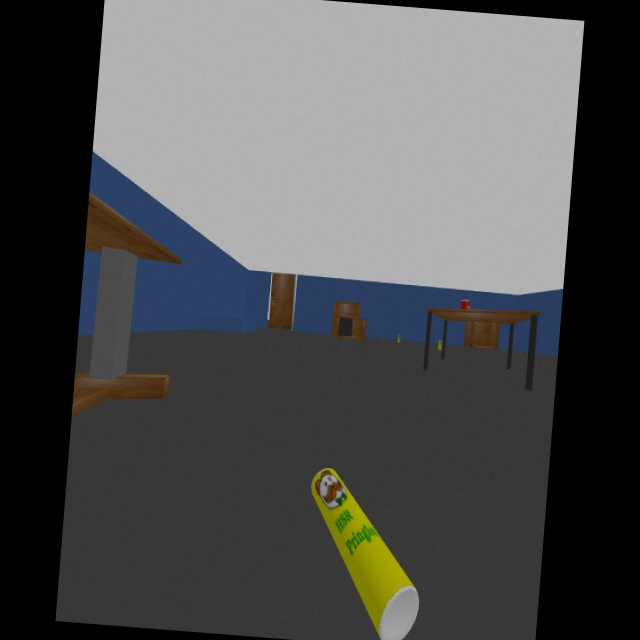chipsdose_gelb: (311, 467, 419, 640), (438, 339, 442, 351), (397, 333, 401, 342)
